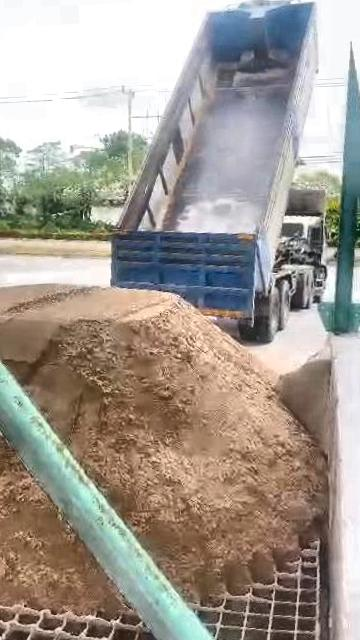sand: (0, 286, 324, 599), (0, 372, 119, 613), (279, 346, 336, 459)
